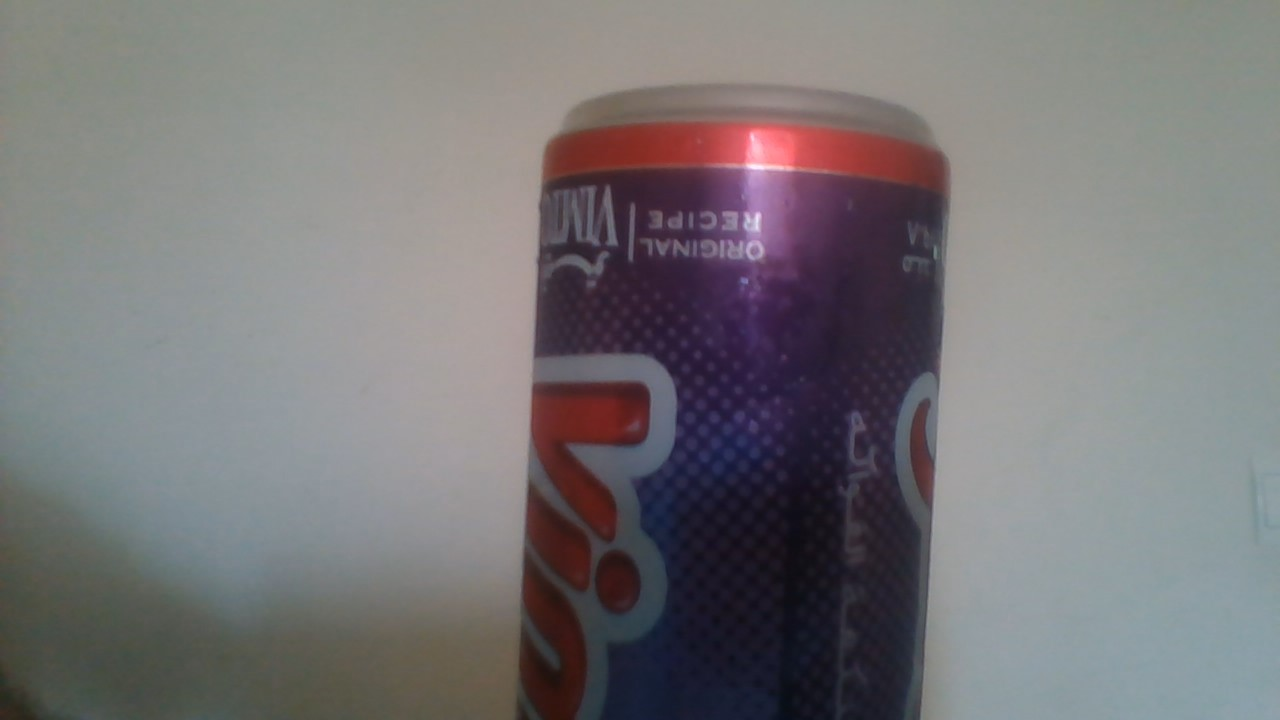can: (499, 68, 965, 720)
